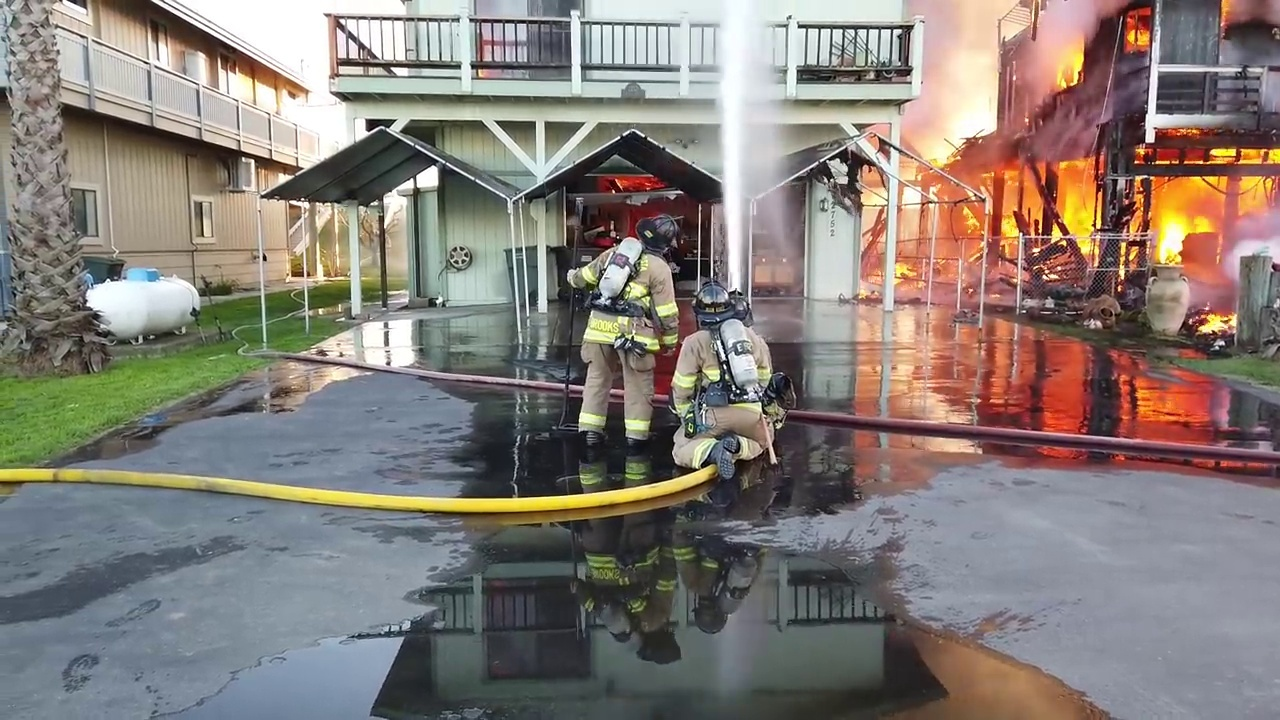fire: (998, 151, 1102, 241), (1136, 126, 1280, 174), (1220, 1, 1279, 74), (1155, 172, 1280, 204), (875, 249, 945, 299), (1154, 204, 1213, 261), (1046, 27, 1091, 93), (1188, 301, 1237, 349), (476, 26, 509, 80), (1119, 6, 1154, 52), (607, 175, 659, 193), (957, 206, 987, 235)
smoke: (905, 3, 1003, 144), (897, 169, 1000, 206)
